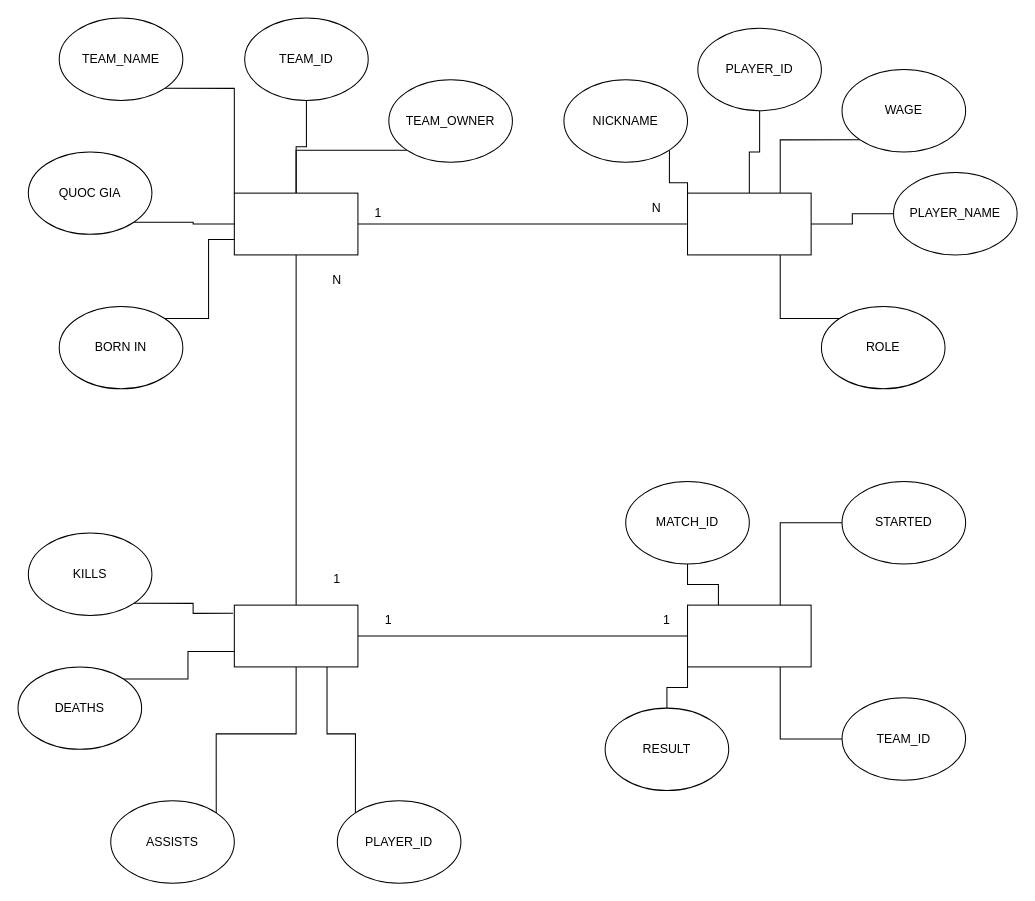
This 1035x901 diagram has some shape labels left out. Here are the shapes that lost their labels. From the top down, the box of each, then its label:
(233, 192, 358, 255): TEAM
(686, 192, 811, 255): PLAYER
(233, 604, 358, 667): MATCH_STATICS
(686, 604, 811, 667): MATCH
